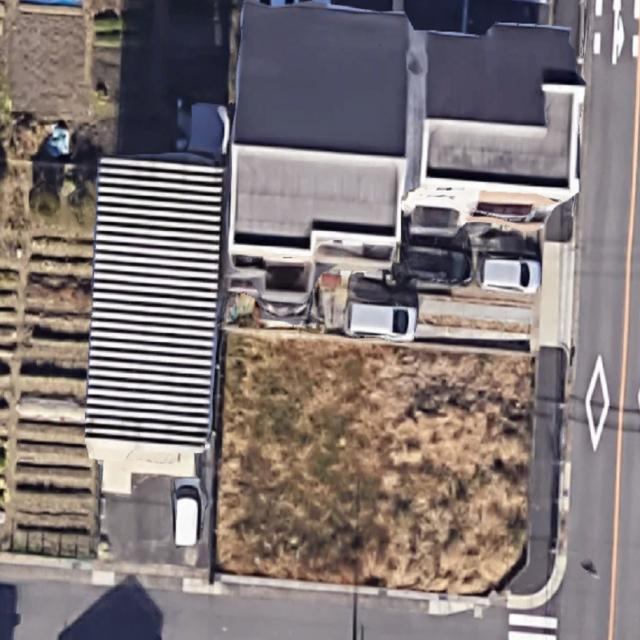Batiment: (229, 3, 412, 298), (86, 153, 225, 495), (405, 25, 584, 236)
